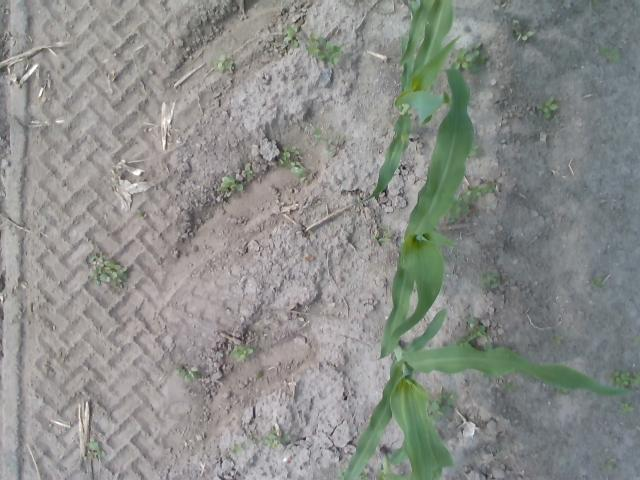Maize: (344, 308, 629, 480), (376, 68, 475, 363), (356, 0, 462, 203), (402, 0, 429, 67), (376, 446, 409, 478)
Weeds: (87, 254, 127, 290), (173, 362, 202, 382), (318, 40, 342, 64), (265, 428, 290, 450), (513, 20, 535, 42), (538, 96, 558, 120), (450, 199, 470, 223), (612, 371, 640, 388), (292, 162, 316, 178), (600, 44, 620, 63), (453, 48, 472, 68), (284, 25, 300, 48), (305, 32, 319, 58), (460, 184, 480, 202), (465, 317, 486, 334), (221, 176, 243, 192), (211, 56, 233, 72), (278, 155, 300, 169), (86, 442, 105, 458), (428, 402, 444, 421), (234, 346, 252, 362), (456, 332, 476, 346), (483, 270, 498, 288), (378, 226, 392, 244), (447, 390, 459, 404), (480, 183, 492, 196), (244, 169, 255, 181), (437, 392, 448, 404), (504, 382, 516, 393), (622, 402, 633, 413), (592, 277, 604, 287), (280, 150, 291, 159), (288, 146, 299, 155), (474, 42, 481, 56), (314, 127, 322, 139), (478, 54, 488, 63), (556, 334, 564, 344), (232, 444, 243, 451), (325, 148, 336, 155), (137, 211, 147, 218), (472, 144, 478, 155), (325, 138, 333, 145), (336, 134, 342, 142), (248, 437, 255, 443), (328, 126, 334, 131), (594, 0, 598, 4)
